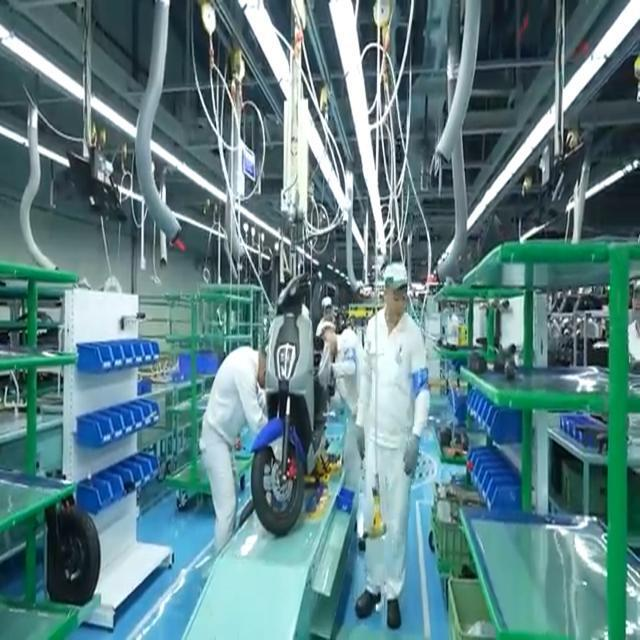motorcycle: (245, 262, 335, 534)
